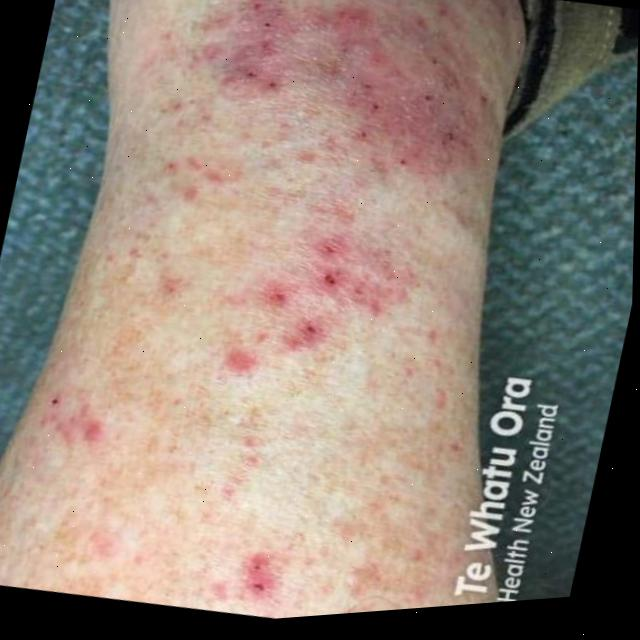Eczema: (8, 0, 504, 638)
